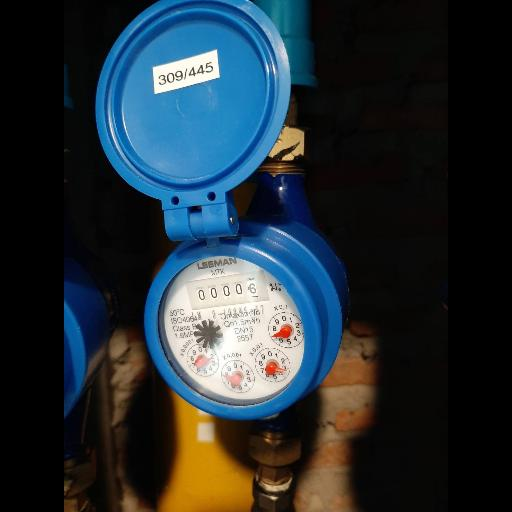0: (220, 282, 232, 300), (234, 280, 245, 298), (196, 286, 207, 303), (209, 285, 220, 302)
6: (247, 277, 259, 300)
border_water_meter_number: (186, 270, 271, 312)
